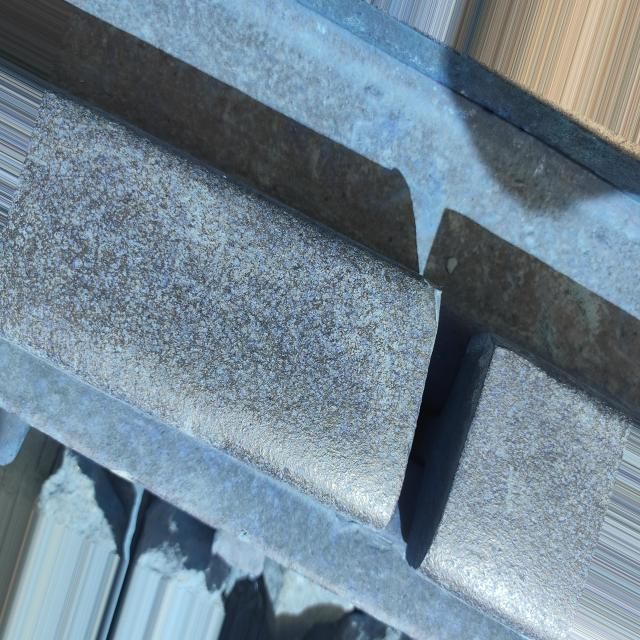crack: (370, 280, 525, 589)
